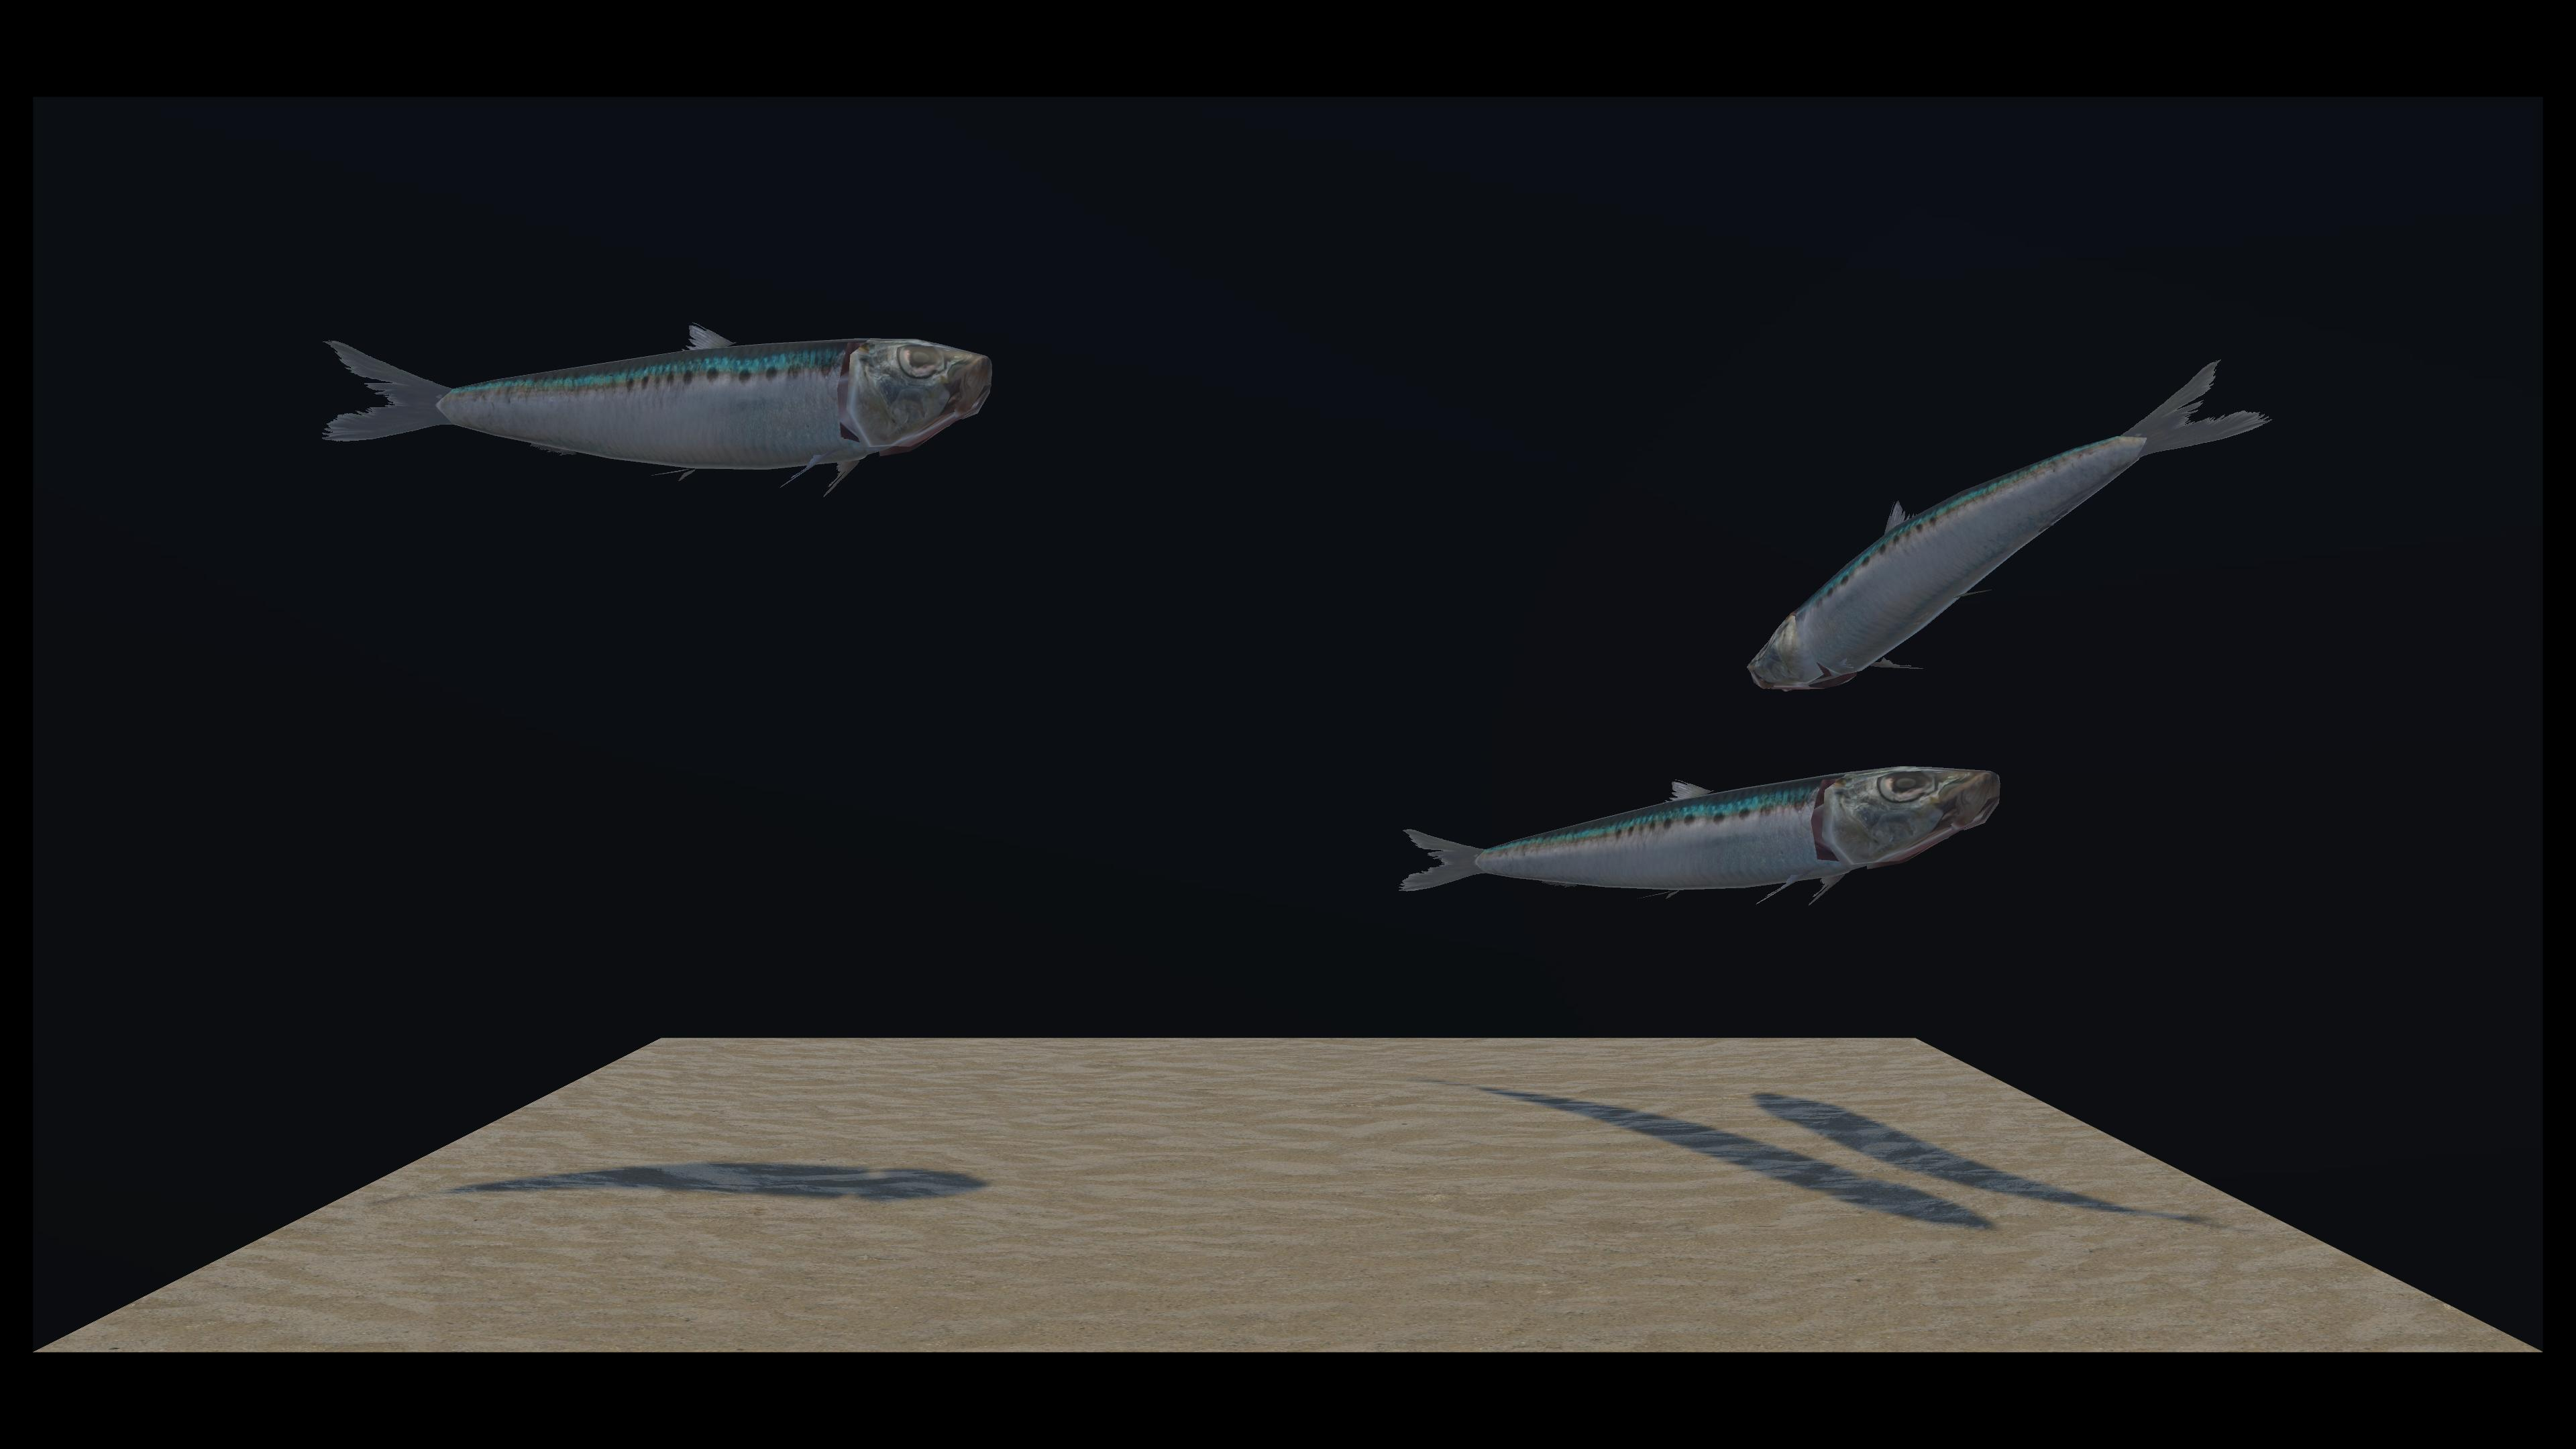Sardine_Front: (794, 460, 1987, 915), (773, 356, 2263, 676), (336, 327, 984, 502)
